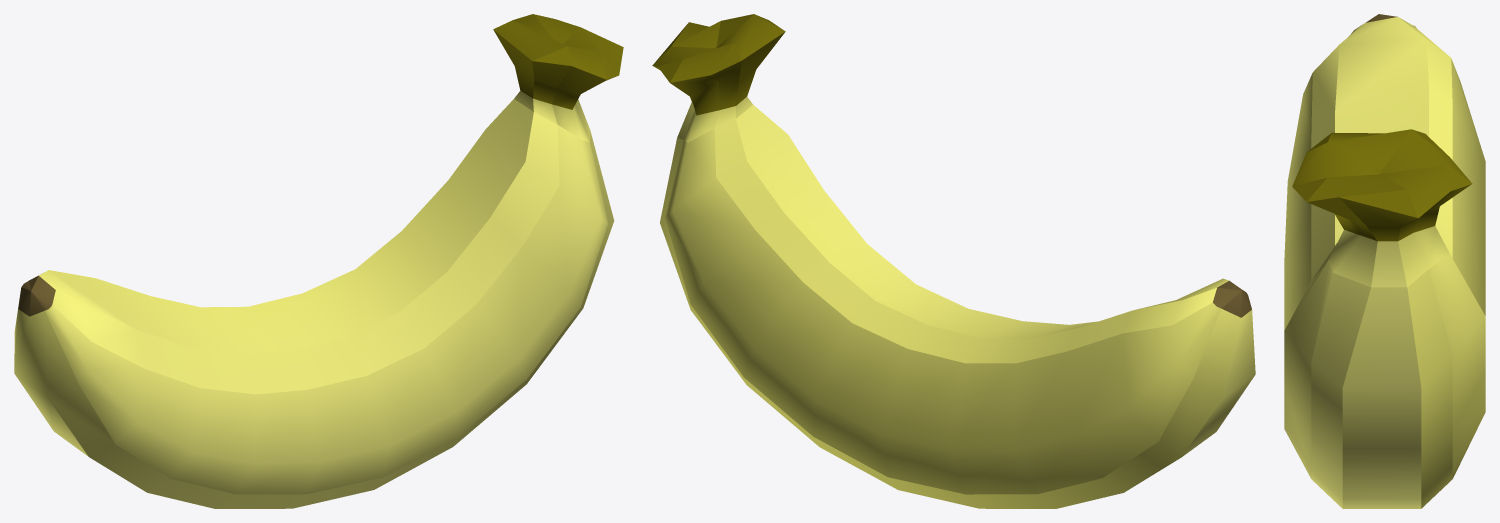
The model's file is SM_BananaStatic.fbx.
3 views of the same model, side by side, from view 1: azimuth 30°, elevation 25°; view 2: azimuth 150°, elevation 25°; view 3: azimuth 270°, elevation 25° (orthographic). The views are drawn at different scales.
Visible parts, largest first — view 1: SM_BananaStatic; view 2: SM_BananaStatic; view 3: SM_BananaStatic.
Part boxes in pixels (x1=…): SM_BananaStatic: x1=14, y1=14, x2=623, y2=508; SM_BananaStatic: x1=652, y1=14, x2=1255, y2=508; SM_BananaStatic: x1=1284, y1=14, x2=1485, y2=508.
Size of the model in its own units: 0.15 by 0.1 by 0.04.
